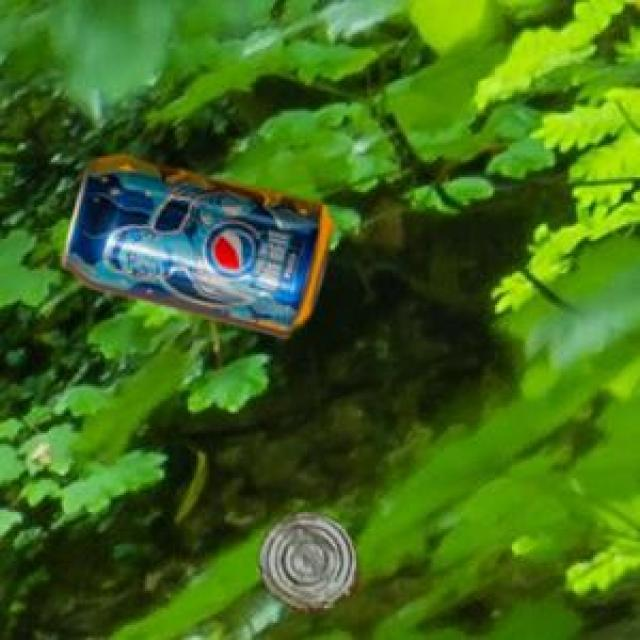Can: (61, 153, 330, 334), (257, 509, 355, 609)
